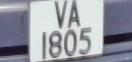0: (62, 28, 79, 60)
1: (38, 30, 50, 62)
5: (77, 26, 96, 59)
8: (47, 30, 64, 61)
A: (66, 1, 81, 28)
V: (52, 1, 68, 28)
